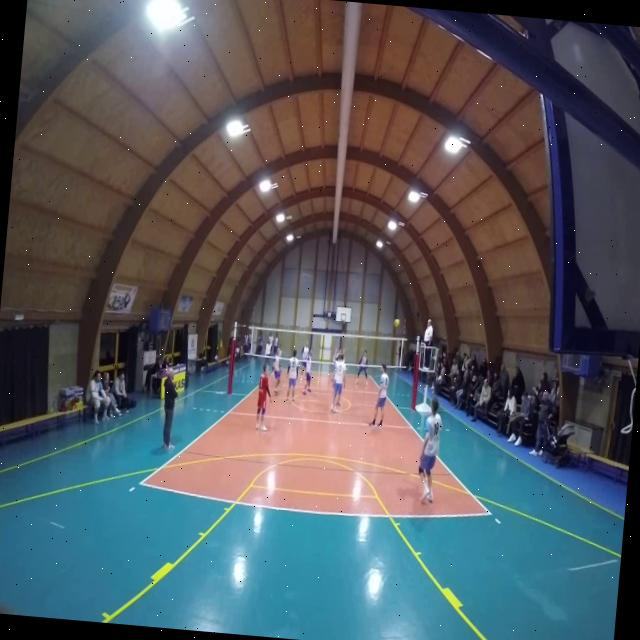Volleyball: (392, 317, 400, 330)
